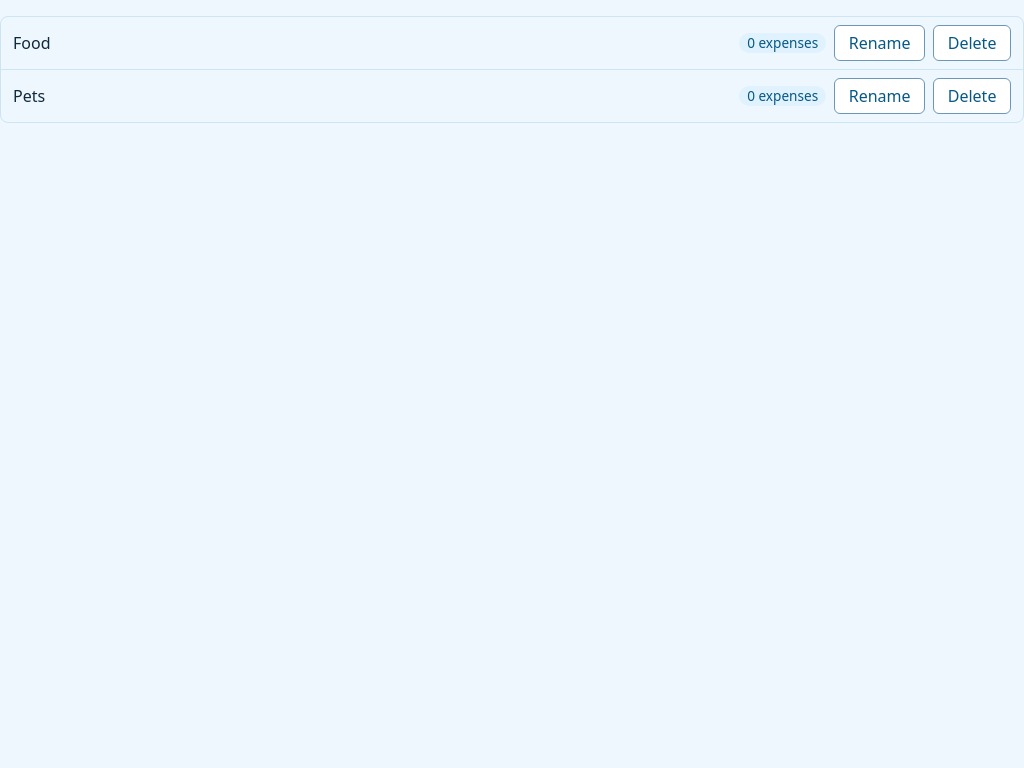
Test: moves focus into the list after a deleted row disappears
Click the button with aria-label "Delete Pets". click: (972, 96)
box: left=933, top=78, right=1011, bottom=114
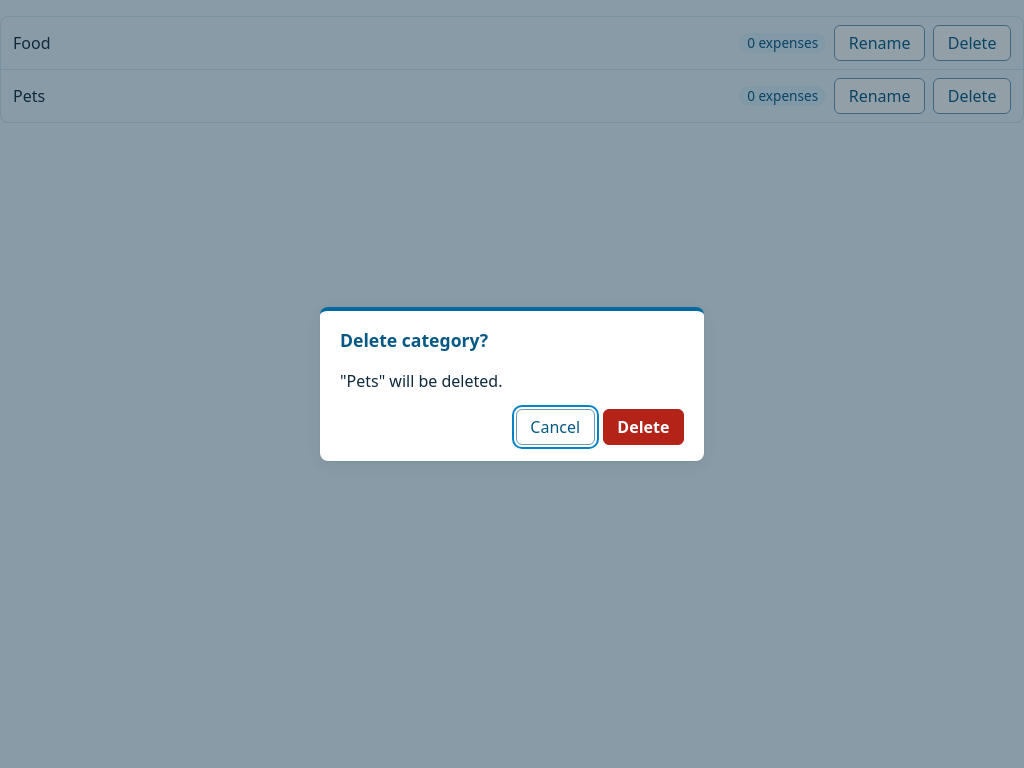
Click the button "Delete". click: (643, 427)
box: left=603, top=409, right=684, bottom=445
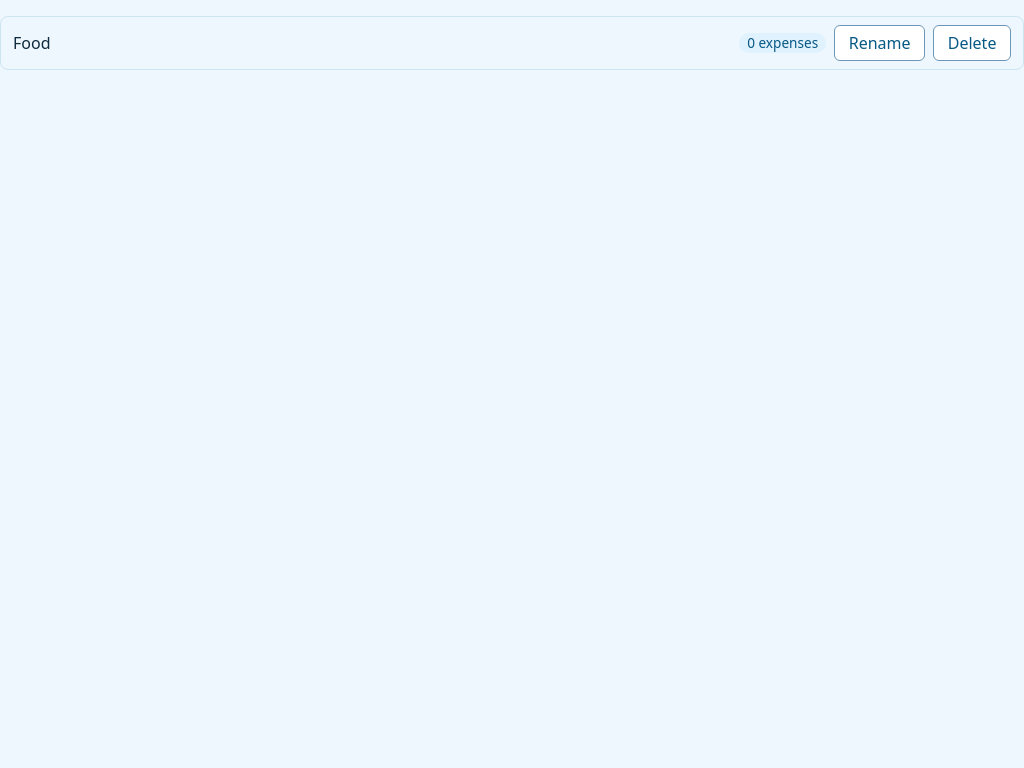
Result: the text "Pets" is gone
